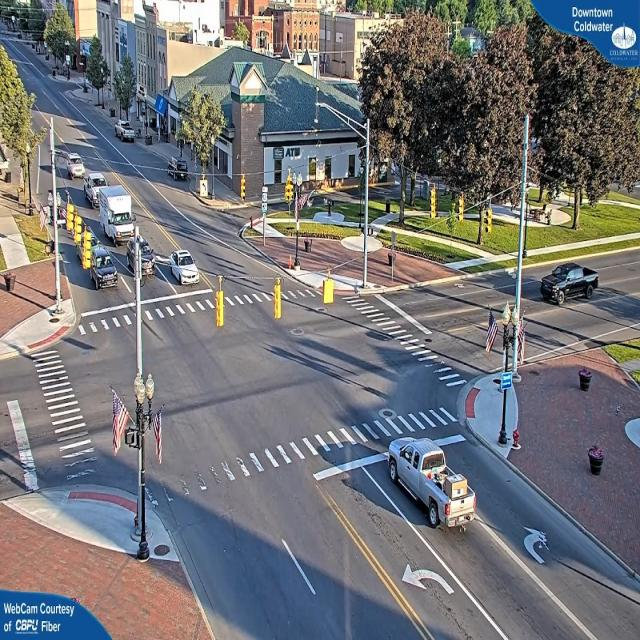car: (386, 436, 478, 537), (542, 262, 600, 304), (165, 251, 200, 287), (117, 123, 136, 143)
